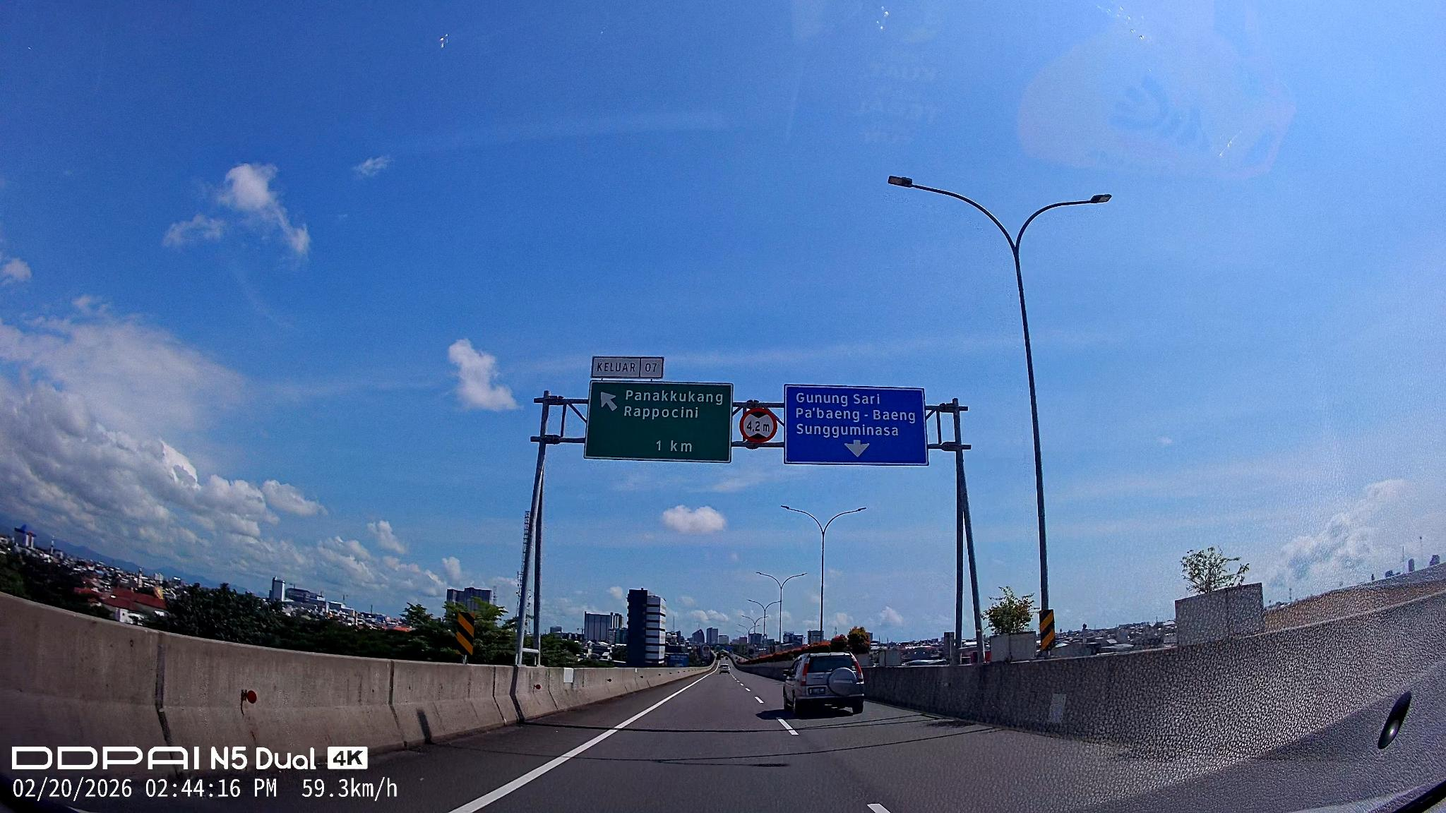rambu_teks: (583, 380, 734, 465), (784, 383, 929, 467)
